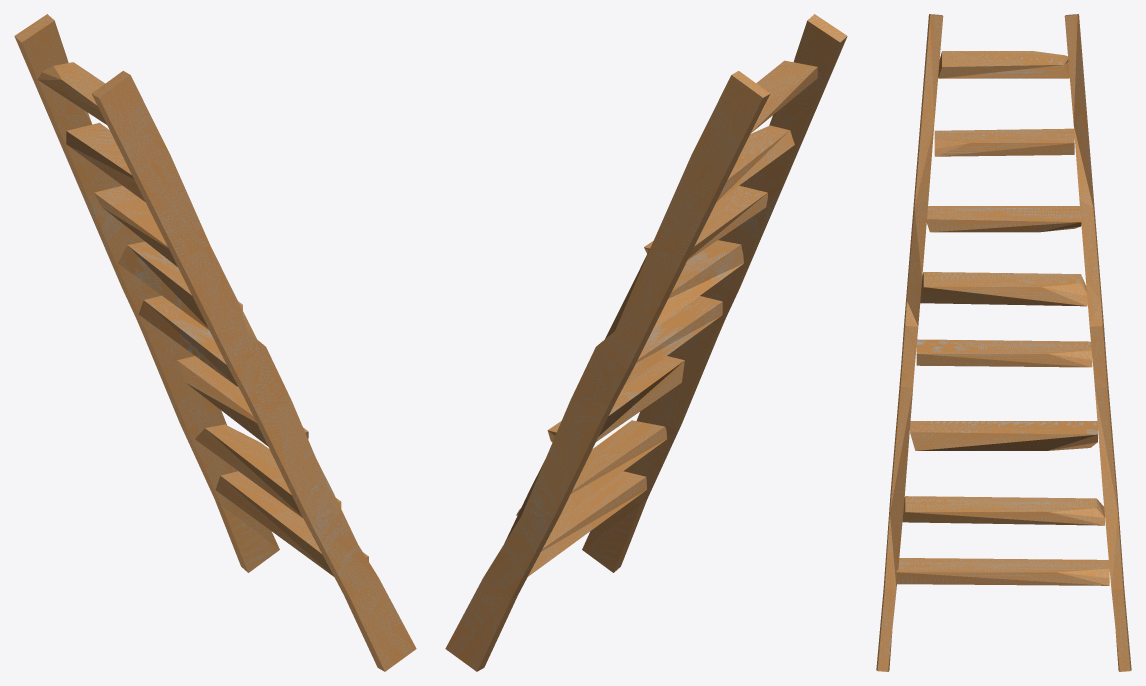
File: Stairs3.fbx
3 views of the same model, side by side, from view 1: azimuth 30°, elevation 25°; view 2: azimuth 150°, elevation 25°; view 3: azimuth 270°, elevation 25° (orthographic). The views are drawn at different scales.
Visible parts, largest first — view 1: Group10, Group4, Group9, Group3, Group8, Group5, Group2, Group1, Group6, Group7; view 2: Group4, Group10, Group3, Group9, Group5, Group8, Group2, Group6, Group1, Group7; view 3: Group4, Group10, Group9, Group2, Group3, Group5, Group8, Group6, Group1, Group7.
Boxes of the visible parts, box(x1,y1,x2,y2) form: Group10: box(92, 71, 416, 671); Group4: box(14, 14, 279, 572); Group9: box(215, 471, 368, 576); Group3: box(195, 424, 341, 517); Group8: box(138, 295, 238, 386); Group5: box(118, 241, 242, 330); Group2: box(177, 356, 308, 445); Group1: box(66, 123, 145, 201); Group6: box(94, 185, 177, 266); Group7: box(37, 62, 106, 124); Group4: box(445, 71, 769, 671); Group10: box(582, 14, 847, 572); Group3: box(516, 420, 667, 517); Group9: box(528, 471, 646, 576); Group5: box(652, 240, 743, 330); Group8: box(623, 296, 722, 387); Group2: box(547, 356, 684, 442); Group6: box(644, 185, 767, 260); Group1: box(716, 125, 794, 201); Group7: box(750, 60, 817, 133); Group4: box(1064, 14, 1131, 671); Group10: box(876, 14, 943, 671); Group9: box(896, 558, 1109, 585); Group2: box(910, 421, 1097, 450); Group3: box(902, 496, 1104, 525); Group5: box(920, 272, 1087, 306); Group8: box(916, 339, 1092, 367); Group6: box(926, 206, 1081, 232); Group1: box(934, 128, 1074, 156); Group7: box(938, 51, 1069, 78).
Bounding box in the file's own units: 1126 × 2350 × 972.
